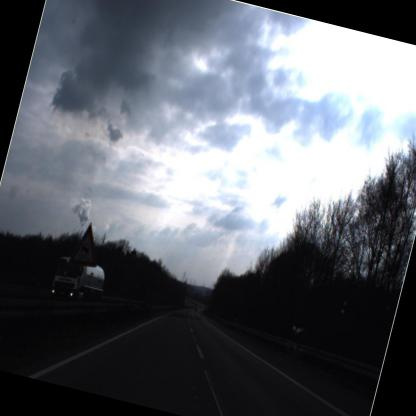danger: (63, 211, 112, 279)
